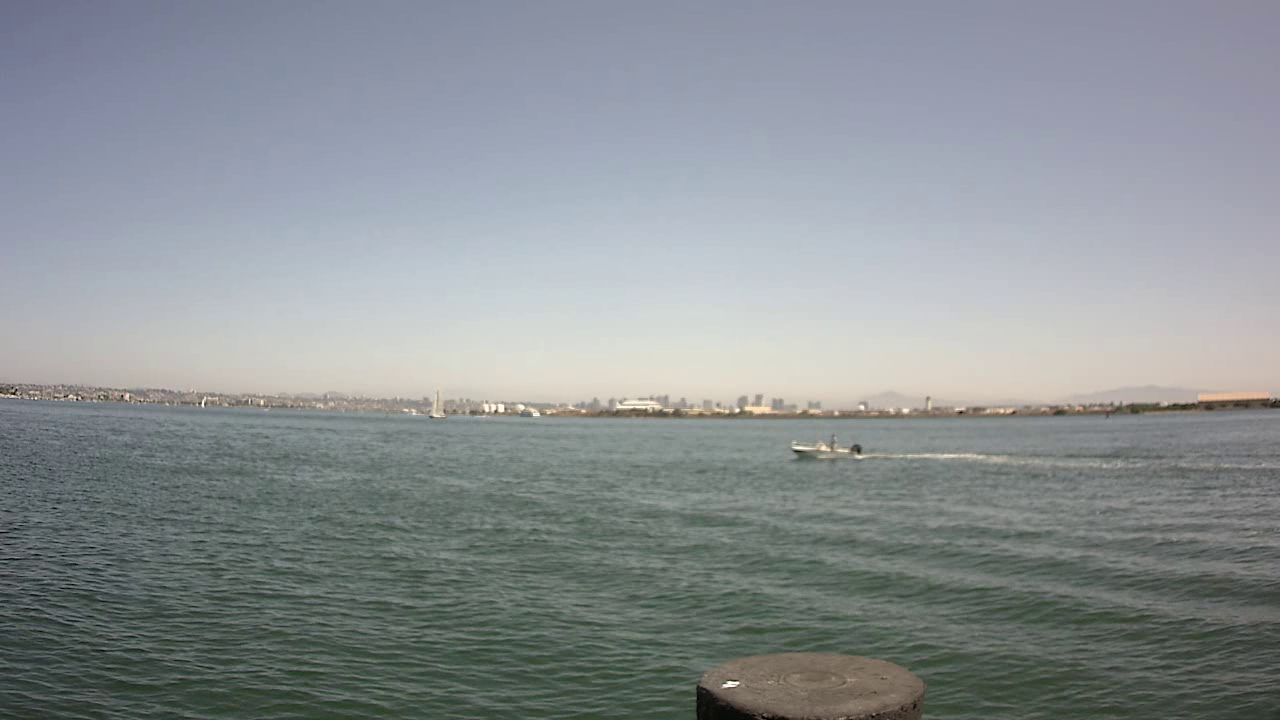target: (786, 427, 874, 468)
